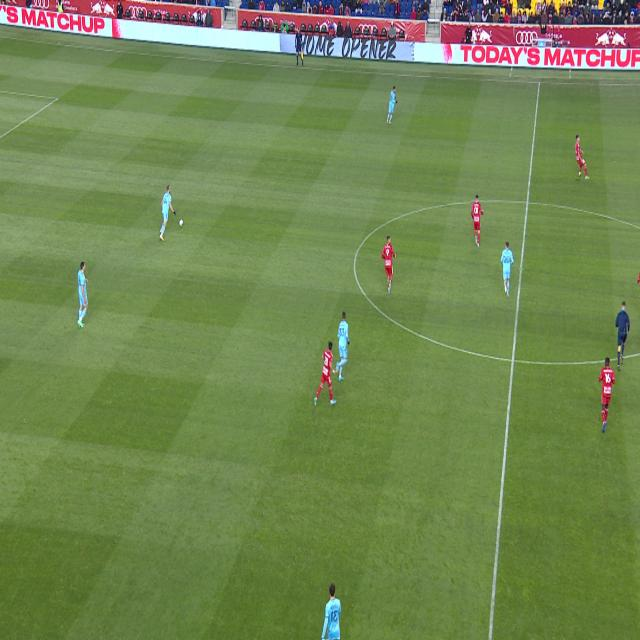football: (179, 219, 183, 227)
player: (314, 341, 337, 407), (599, 357, 616, 434), (321, 584, 341, 639), (336, 312, 350, 381), (160, 185, 176, 241), (382, 235, 396, 294), (501, 241, 514, 298), (77, 261, 88, 328), (471, 195, 484, 249), (575, 134, 590, 179), (387, 86, 397, 124)
referee: (615, 300, 630, 371)
